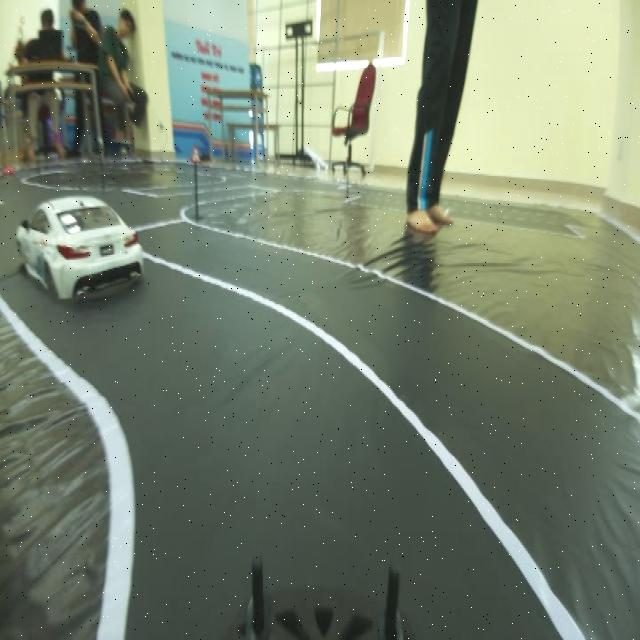car: (20, 182, 144, 309)
